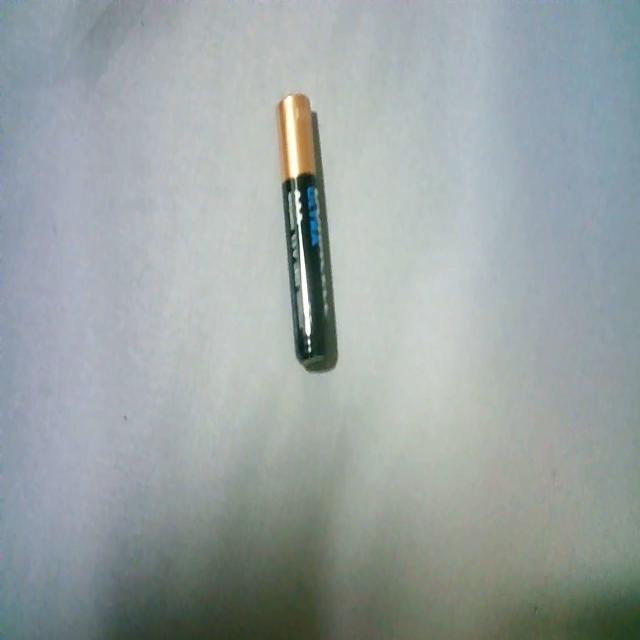AAA: (270, 88, 342, 371)
